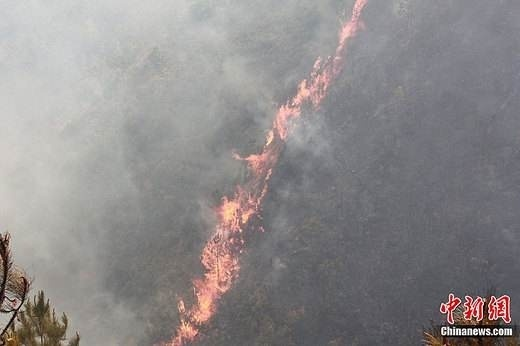fire: (171, 11, 357, 346)
